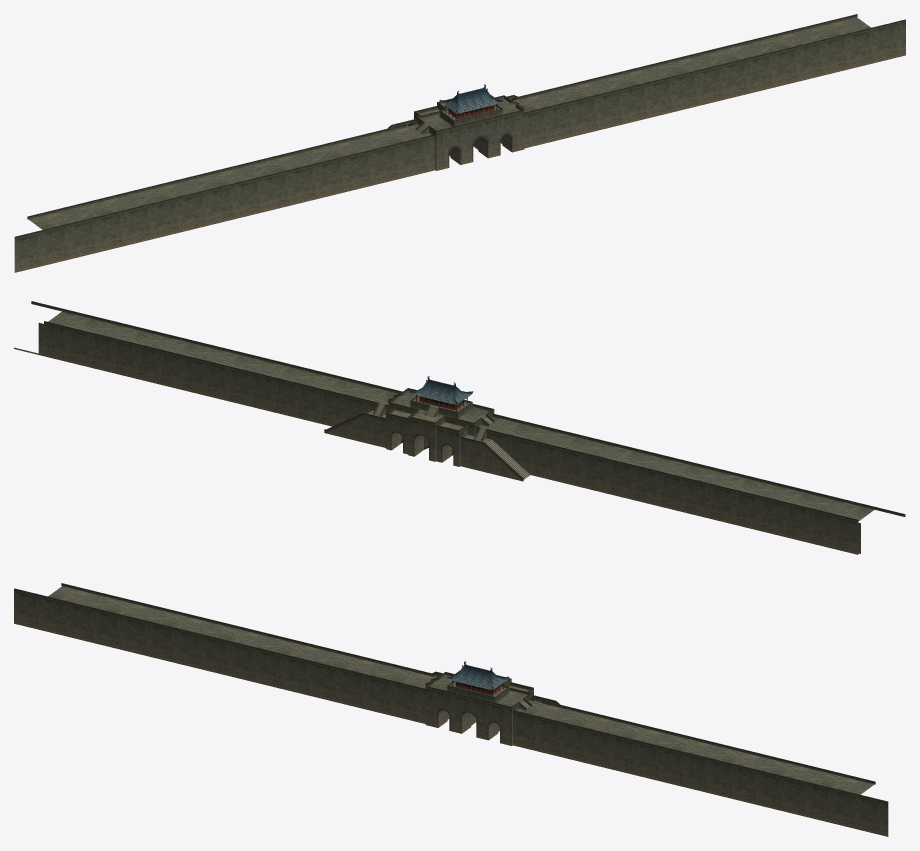
Rendered from cj_s_cut.glb.
3 renders of one model, top to bottom at view 1: azimuth 30°, elevation 25°; view 2: azimuth 150°, elevation 25°; view 3: azimuth 330°, elevation 25°, orthographic.
Visible parts, largest first — view 1: S-gate|CJ_s_wall01, S-end1|CJ_s_wall01, S-end0|CJ_s_wall01, S-gate|CJ_s_wall02, S4a|CJ_s_wall01, S7b|CJ_s_wall01, S9b|CJ_s_wall01, S8b|CJ_s_wall01, S8c|CJ_s_wall01, S4c|CJ_s_wall01, S7c|CJ_s_wall01, S8a|CJ_s_wall01 (+20 smaller); view 2: S-gate|CJ_s_wall01, S-gate|CJ_s_wall02, S9a|CJ_s_wall01, S8a|CJ_s_wall01, S7a|CJ_s_wall01, S4a|CJ_s_wall01, S4b|CJ_s_wall01, S9b|CJ_s_wall01, S7b|CJ_s_wall01, S9c|CJ_s_wall01, S8b|CJ_s_wall01, S-end1|CJ_s_wall01 (+20 smaller); view 3: S-gate|CJ_s_wall01, S-end1|CJ_s_wall01, S-end0|CJ_s_wall01, S-gate|CJ_s_wall02, S9b|CJ_s_wall01, S8b|CJ_s_wall01, S4b|CJ_s_wall01, S7b|CJ_s_wall01, S9c|CJ_s_wall01, S4a|CJ_s_wall01, S8c|CJ_s_wall01, S7a|CJ_s_wall01 (+20 smaller).
Part boxes in pixels (box(x1,y1,x2,y2)): S-gate|CJ_s_wall01: box(407, 98, 528, 169); S-end1|CJ_s_wall01: box(834, 17, 905, 66); S-end0|CJ_s_wall01: box(14, 214, 65, 271); S-gate|CJ_s_wall02: box(404, 94, 528, 171); S4a|CJ_s_wall01: box(263, 155, 307, 206); S7b|CJ_s_wall01: box(617, 69, 661, 120); S9b|CJ_s_wall01: box(780, 29, 824, 80); S8b|CJ_s_wall01: box(698, 49, 742, 100); S8c|CJ_s_wall01: box(725, 42, 769, 93); S4c|CJ_s_wall01: box(318, 142, 362, 192); S7c|CJ_s_wall01: box(644, 62, 688, 113); S8a|CJ_s_wall01: box(671, 56, 715, 106); S-gate|CJ_s_wall01: box(375, 391, 496, 467); S-gate|CJ_s_wall02: box(375, 388, 497, 468); S9a|CJ_s_wall01: box(120, 330, 164, 379); S8a|CJ_s_wall01: box(200, 349, 243, 399); S7a|CJ_s_wall01: box(280, 369, 324, 418); S4a|CJ_s_wall01: box(600, 447, 643, 496); S4b|CJ_s_wall01: box(574, 440, 617, 490); S9b|CJ_s_wall01: box(94, 323, 137, 373); S7b|CJ_s_wall01: box(254, 362, 297, 412); S9c|CJ_s_wall01: box(67, 317, 110, 366); S8b|CJ_s_wall01: box(174, 343, 217, 392); S-end1|CJ_s_wall01: box(38, 311, 83, 360); S-gate|CJ_s_wall01: box(422, 675, 540, 744); S-end1|CJ_s_wall01: box(835, 779, 888, 835); S-end0|CJ_s_wall01: box(14, 586, 81, 634); S-gate|CJ_s_wall02: box(422, 670, 543, 746); S9b|CJ_s_wall01: box(781, 766, 825, 815); S8b|CJ_s_wall01: box(701, 746, 744, 796); S4b|CJ_s_wall01: box(301, 649, 344, 698); S7b|CJ_s_wall01: box(621, 727, 664, 776); S9c|CJ_s_wall01: box(808, 772, 851, 822); S4a|CJ_s_wall01: box(275, 642, 318, 692); S8c|CJ_s_wall01: box(728, 753, 771, 802); S7a|CJ_s_wall01: box(595, 720, 638, 770).
Bounding box in the file's own units: 556 × 39.2 × 32.22.
Materials: 9 (9 with a texture image).
